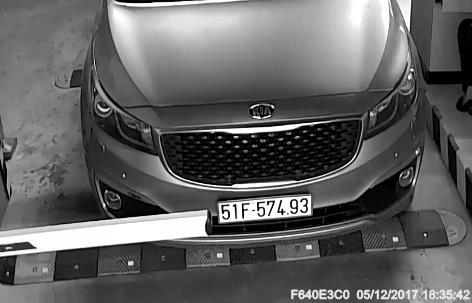License-plate: (199, 189, 316, 226)
